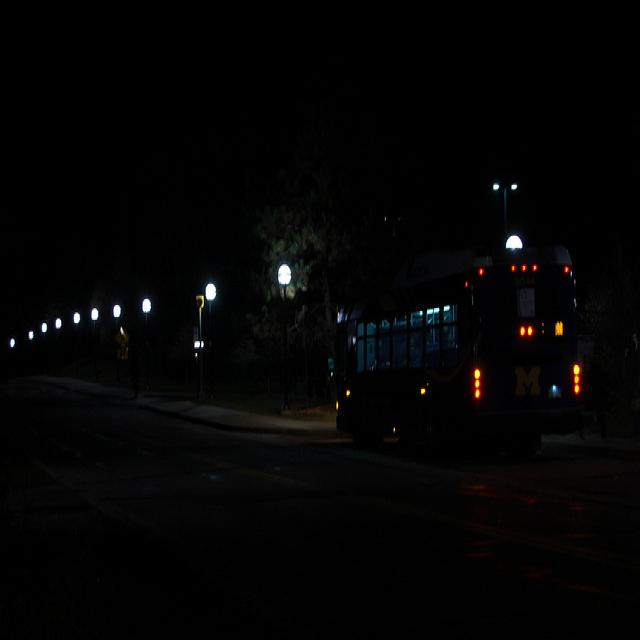Bus: (306, 226, 597, 465)
